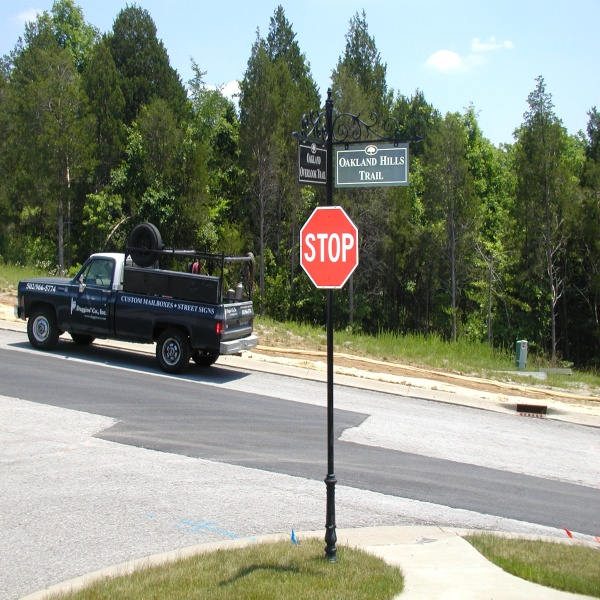stop: (299, 200, 360, 290)
